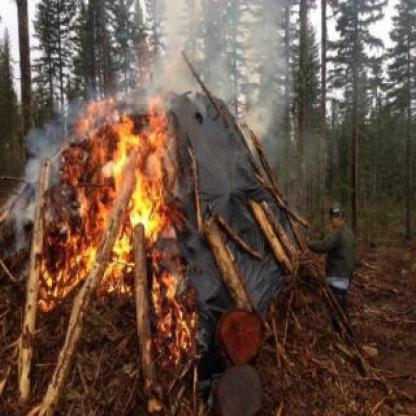Fire: (37, 105, 188, 347)
Smoke: (140, 2, 289, 90), (10, 110, 54, 260)
